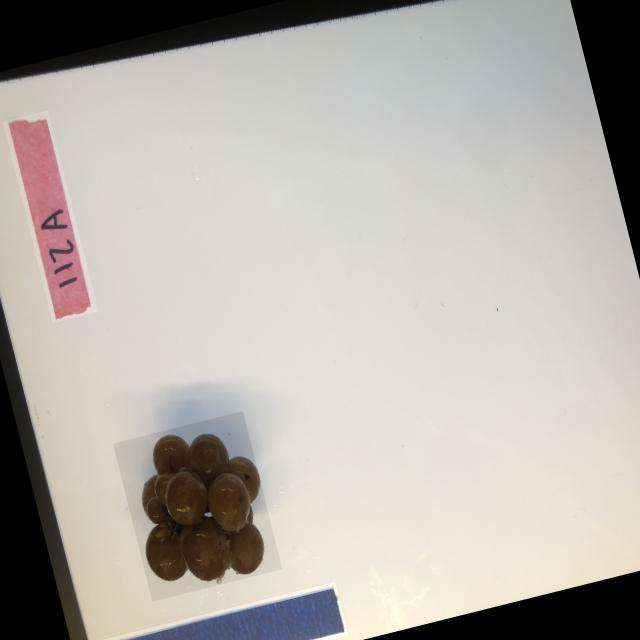grape_cluster: (112, 409, 282, 600)
index: (2, 108, 98, 321)
measure_label: (100, 580, 347, 640)
